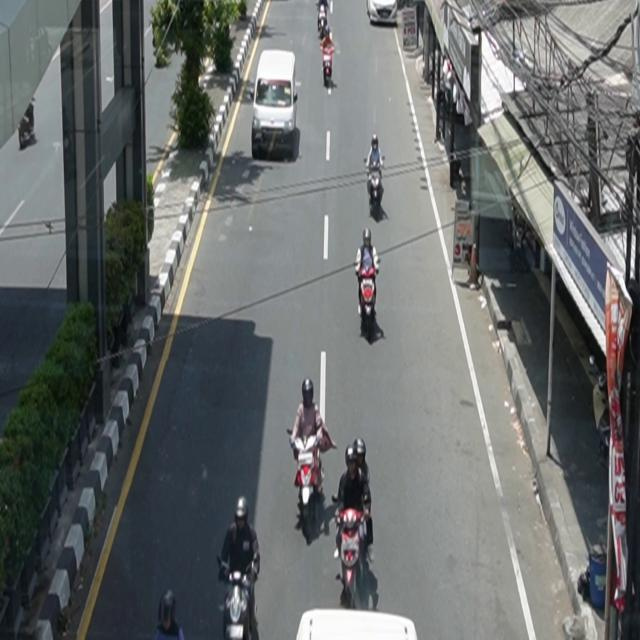car: (252, 50, 300, 160), (366, 1, 398, 26)
